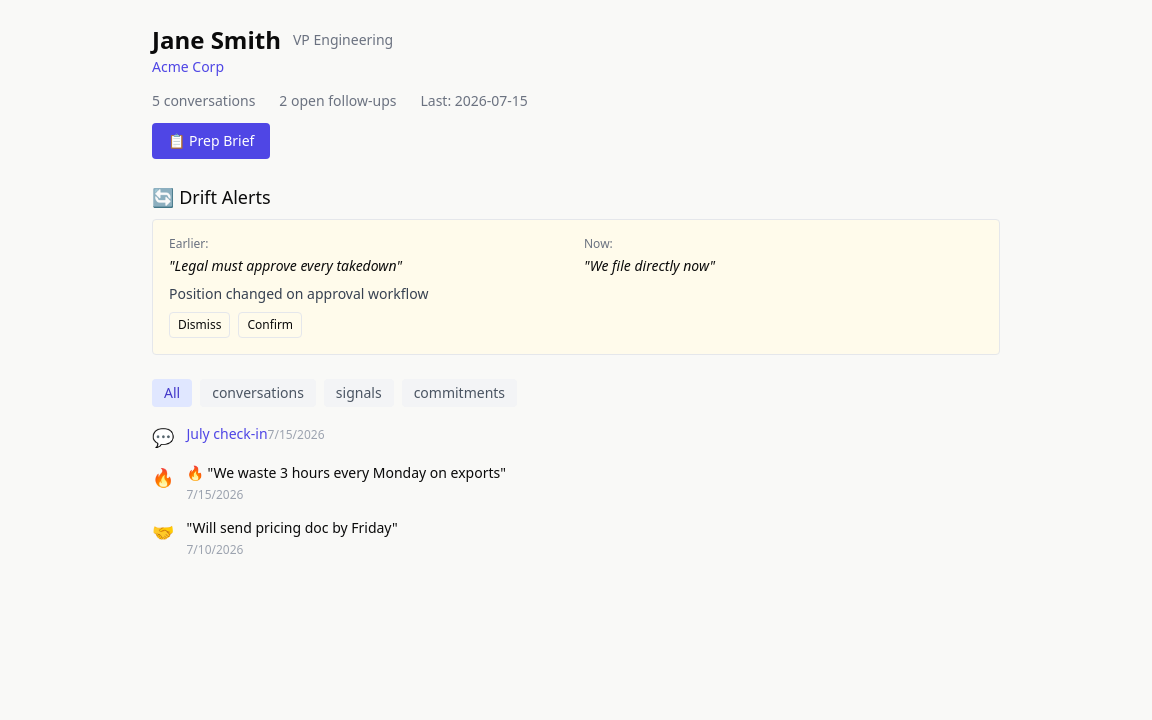
Scenario: ContactPage (T30) › prep brief button generates brief
The image size is (1152, 720).
Step 1. Click the button with test id "prep-brief-btn" → (211, 141), box [152,123,270,159]
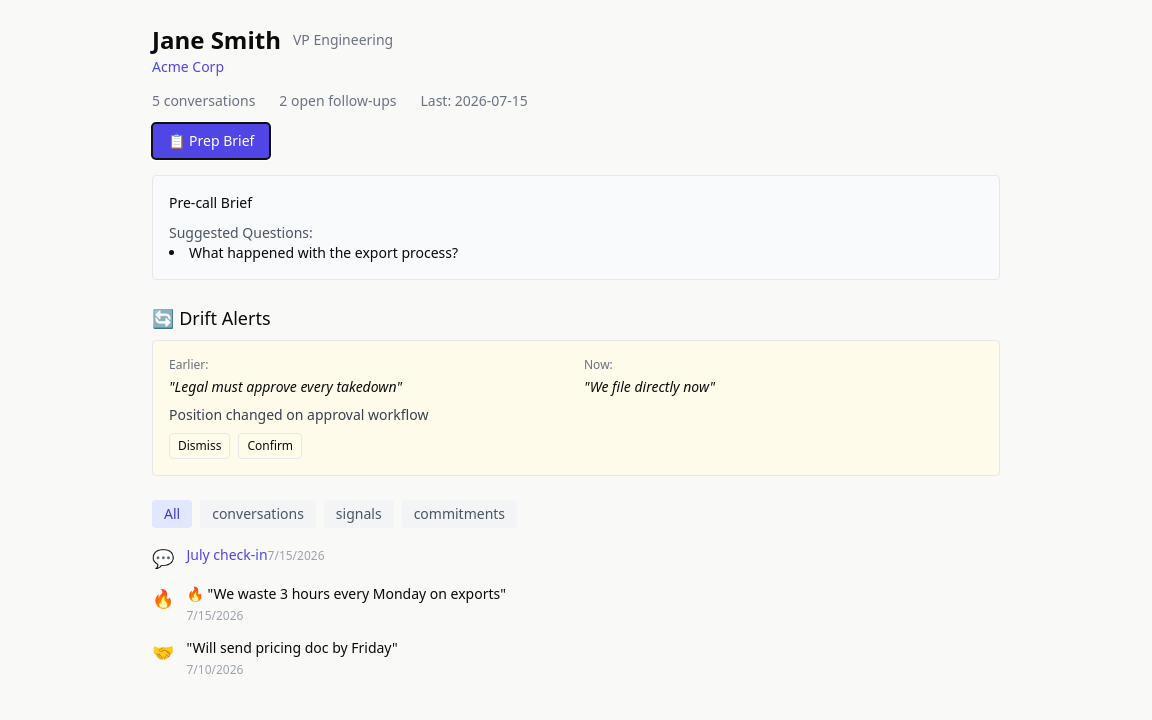
Result: the element with test id "brief-result" is shown at [152,175,1000,280]
Result: the list item "What happened with the export process?" is shown at [189,242,458,262]
